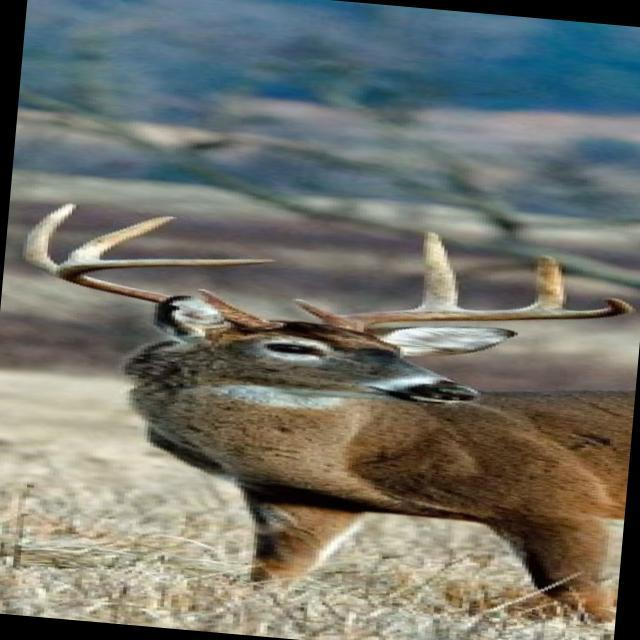L-F: (321, 297, 633, 334)
L-G1: (291, 297, 338, 320)
L-G2: (413, 231, 466, 309)
L-G3: (519, 254, 567, 309)
R-G1: (195, 288, 236, 307)
R-G2: (20, 201, 80, 276)
R-G3: (61, 214, 179, 263)
